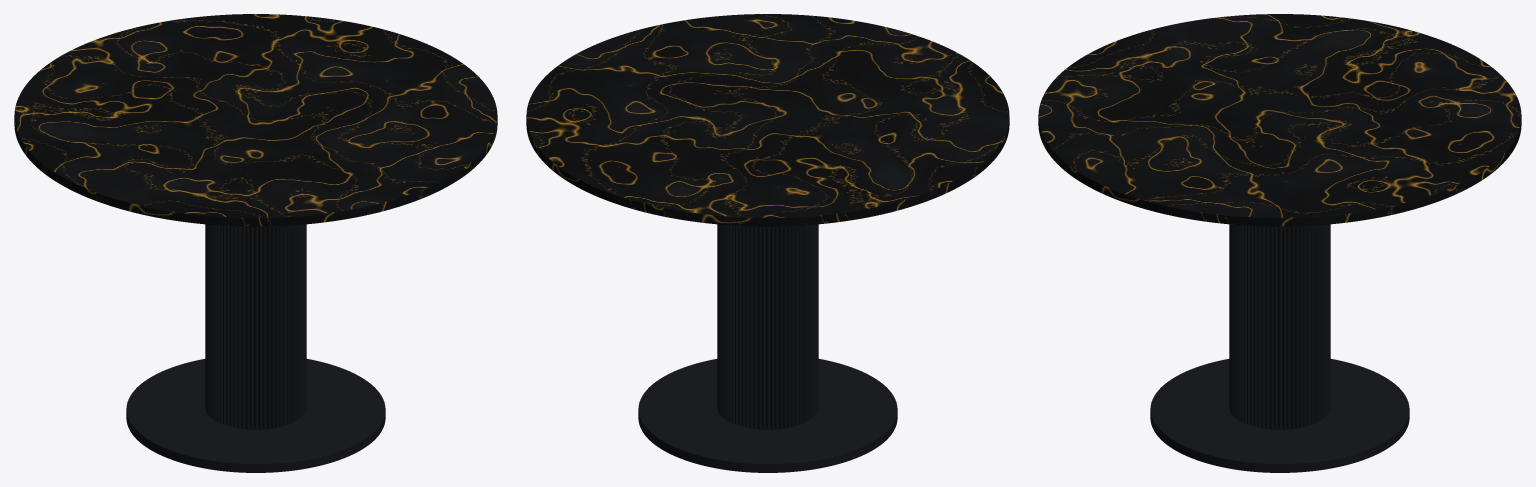
File: table-05-round-fluted-pedestal.glb
3 renders of one model, left to right at view 1: azimuth 30°, elevation 25°; view 2: azimuth 150°, elevation 25°; view 3: azimuth 270°, elevation 25°, orthographic.
Parts seen in each view (by area): view 1: TableTop, Fluted_Column, Base_Disc; view 2: TableTop, Fluted_Column, Base_Disc; view 3: TableTop, Fluted_Column, Base_Disc.
Boxes of the visible parts, box(x1,y1,x2,y2) form: TableTop: box(14, 14, 497, 226); Fluted_Column: box(205, 224, 306, 429); Base_Disc: box(126, 359, 385, 472); TableTop: box(526, 14, 1009, 226); Fluted_Column: box(717, 224, 818, 429); Base_Disc: box(638, 359, 897, 472); TableTop: box(1038, 14, 1521, 226); Fluted_Column: box(1229, 224, 1330, 429); Base_Disc: box(1150, 359, 1409, 472).
Size of the model in its own units: 1.1 by 0.76 by 1.1.
4 materials, 3 textured.
